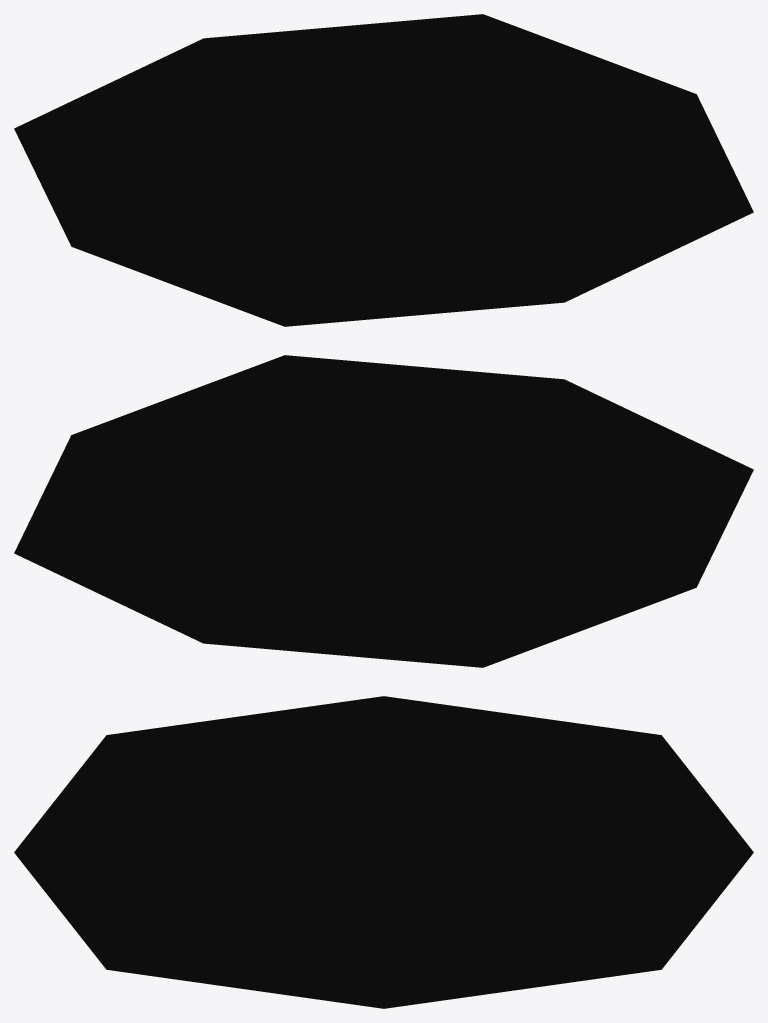
3 views of the same model, one above another, from view 1: azimuth 30°, elevation 25°; view 2: azimuth 150°, elevation 25°; view 3: azimuth 270°, elevation 25° (orthographic). The views are drawn at different scales.
Parts seen in each view (by area): view 1: T1L7M002_20; view 2: T1L7M002_20; view 3: T1L7M002_20.
Part boxes in pixels (left/top/right/bottom): T1L7M002_20: left=14, top=14, right=753, bottom=326; T1L7M002_20: left=14, top=355, right=753, bottom=667; T1L7M002_20: left=14, top=696, right=753, bottom=1008.
Bounding box in the file's own units: 4 × 0 × 4.
